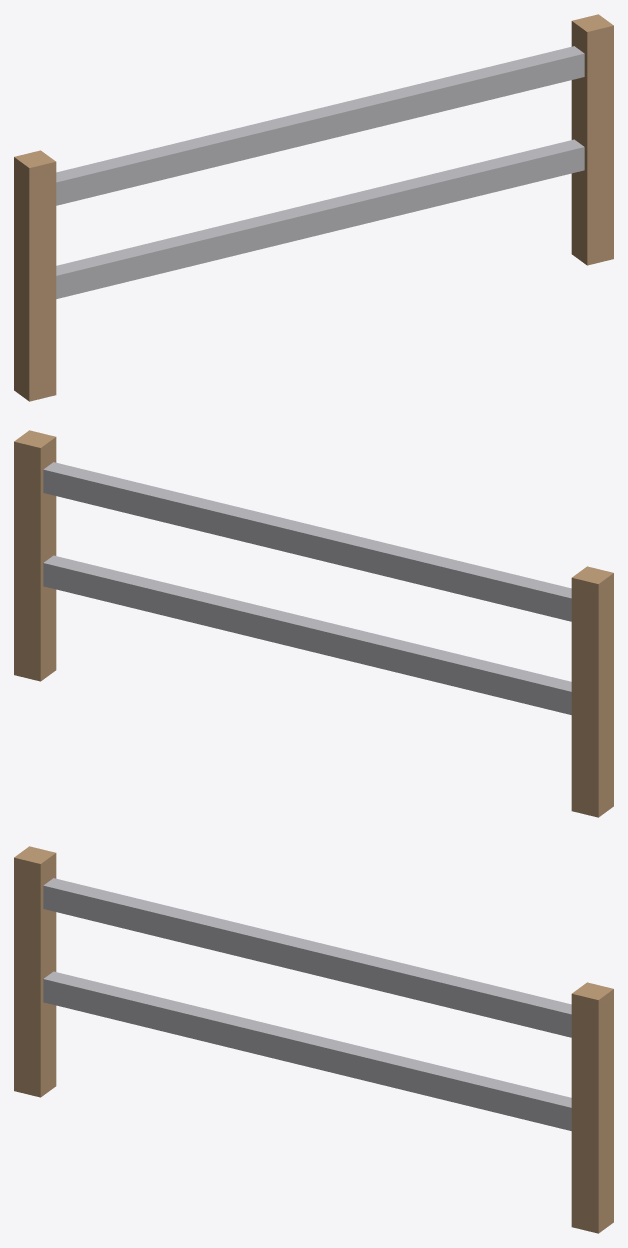
The model's file is Prop_DS_Fence_Gate_15.glb.
The picture shows the model from 3 angles, top to bottom: view 1: azimuth 30°, elevation 25°; view 2: azimuth 150°, elevation 25°; view 3: azimuth 330°, elevation 25°; orthographic projection.
Parts seen in each view (by area): view 1: Cube.002, Cube.003, Cube, Cube.001; view 2: Cube.002, Cube.003, Cube, Cube.001; view 3: Cube.002, Cube.003, Cube.001, Cube.
Part boxes in pixels (left/top/right/bottom): Cube.002: left=56, top=139, right=584, bottom=298; Cube.003: left=56, top=46, right=584, bottom=205; Cube: left=14, top=150, right=56, bottom=401; Cube.001: left=571, top=14, right=613, bottom=265; Cube.002: left=43, top=555, right=571, bottom=714; Cube.003: left=43, top=462, right=571, bottom=621; Cube: left=571, top=566, right=613, bottom=817; Cube.001: left=14, top=430, right=56, bottom=681; Cube.002: left=43, top=971, right=571, bottom=1130; Cube.003: left=43, top=878, right=571, bottom=1037; Cube.001: left=571, top=982, right=613, bottom=1233; Cube: left=14, top=846, right=56, bottom=1097.
Size of the model in its own units: 2.62 by 1 by 0.12.
